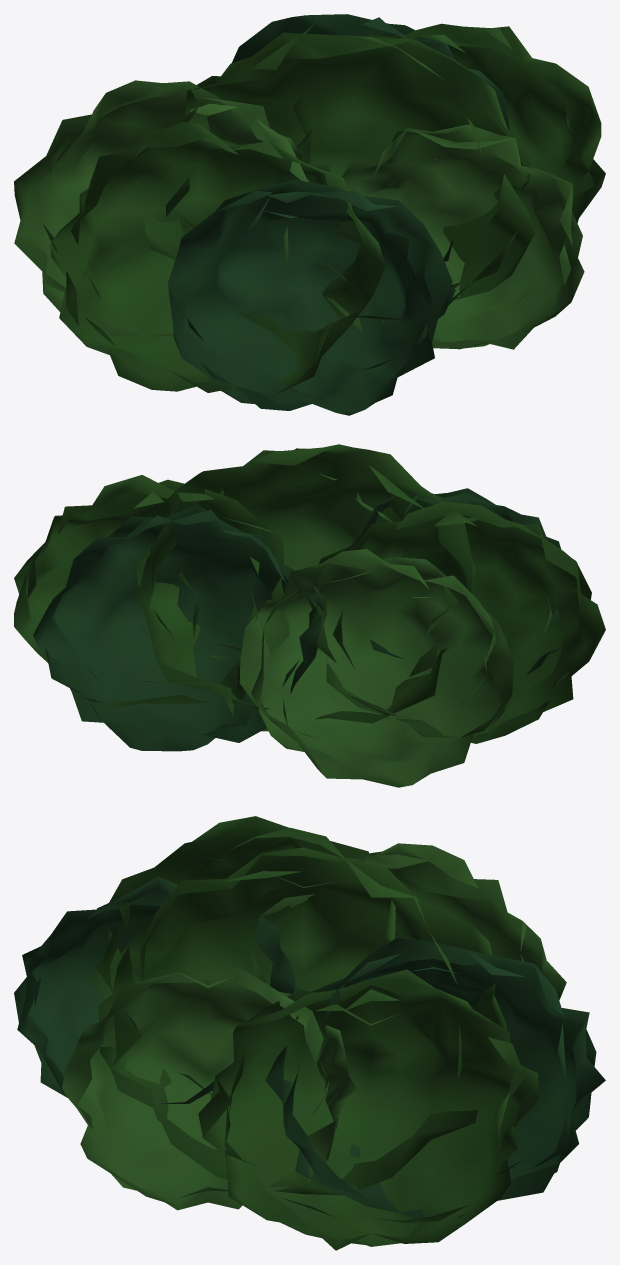
Rendered from court-tree-04-lod0.glb.
3 views of the same model, one above another, from view 1: azimuth 30°, elevation 25°; view 2: azimuth 150°, elevation 25°; view 3: azimuth 270°, elevation 25° (orthographic). The views are drawn at different scales.
Visible parts, largest first — view 1: foliage; view 2: foliage; view 3: foliage.
Boxes of the visible parts, box(x1,y1,x2,y2) form: foliage: box(14, 14, 605, 415); foliage: box(14, 444, 605, 787); foliage: box(14, 816, 605, 1250).
Size of the model in its own units: 7.89 by 3.88 by 6.92.
